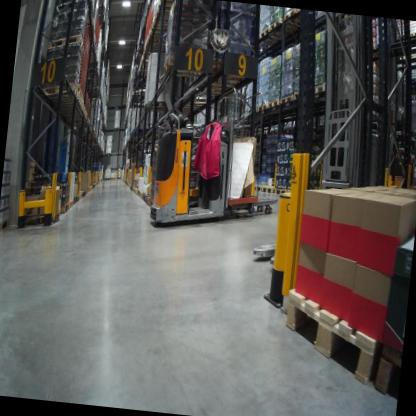pallet: (276, 276, 384, 398), (369, 335, 403, 404), (164, 55, 215, 80), (269, 8, 307, 40), (39, 79, 79, 108), (258, 22, 289, 56), (45, 27, 84, 54), (217, 56, 248, 80), (306, 78, 328, 99), (283, 7, 306, 26), (259, 181, 277, 200), (263, 95, 279, 112), (253, 100, 268, 115), (277, 91, 292, 106), (291, 86, 305, 102), (250, 177, 262, 192), (406, 128, 416, 142), (406, 29, 416, 42), (273, 187, 287, 196), (57, 204, 68, 213), (409, 74, 416, 87), (141, 190, 147, 204), (148, 199, 154, 210), (145, 195, 149, 206)
pallet_truck: (135, 50, 301, 248)
